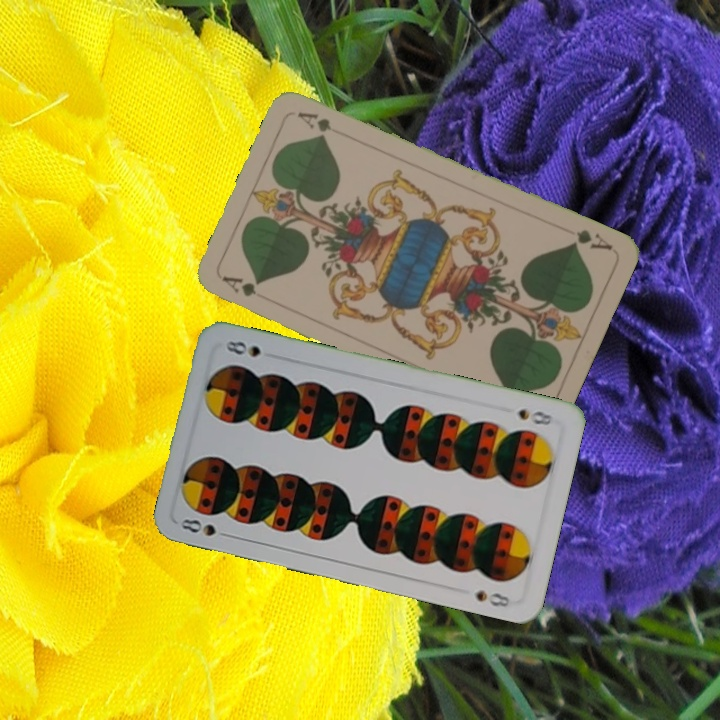GA: (567, 225, 615, 253), (218, 272, 259, 300)
S8: (176, 514, 219, 539), (514, 404, 556, 428)
